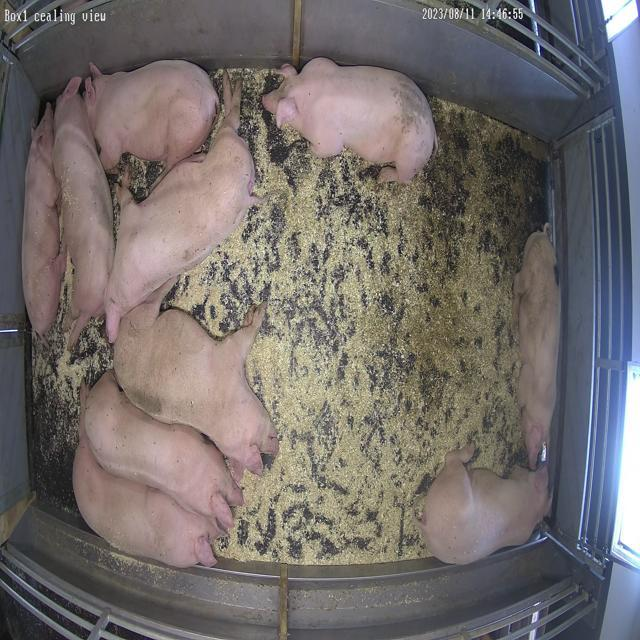Dirt: (398, 99, 548, 410)
Pig: (104, 75, 259, 342), (114, 281, 278, 476), (81, 372, 243, 530), (264, 58, 438, 182), (73, 437, 222, 569), (52, 77, 114, 346), (84, 60, 218, 170), (21, 103, 65, 338)
